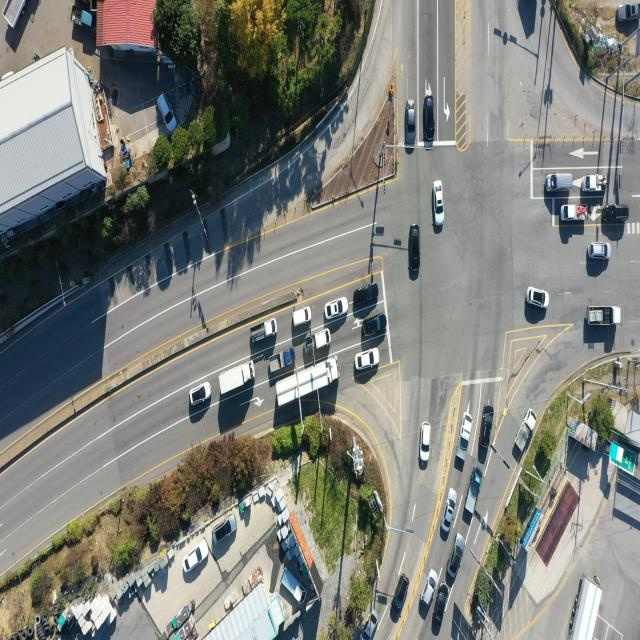car: (181, 541, 207, 576), (448, 535, 466, 578), (156, 94, 175, 134), (391, 576, 408, 619), (443, 490, 459, 534), (213, 518, 236, 547), (422, 570, 439, 609), (407, 98, 419, 152), (361, 316, 386, 340), (352, 282, 378, 305), (434, 584, 450, 621), (546, 173, 575, 193), (424, 98, 436, 146), (359, 611, 378, 640), (191, 380, 213, 405), (482, 402, 494, 447), (354, 349, 378, 371), (324, 298, 348, 320), (433, 180, 444, 226), (409, 224, 419, 273), (602, 204, 629, 222), (526, 286, 548, 308), (420, 422, 431, 464), (617, 2, 640, 22), (291, 307, 311, 328), (589, 243, 611, 259)
medium_truck: (274, 354, 339, 408), (567, 578, 602, 640), (218, 360, 254, 396), (587, 306, 621, 326)
small_truck: (515, 408, 538, 455), (464, 470, 482, 516), (267, 347, 295, 374), (457, 412, 472, 460), (304, 329, 331, 355), (250, 318, 276, 344), (282, 572, 305, 601), (560, 204, 588, 223), (71, 6, 92, 31), (583, 174, 606, 193)
